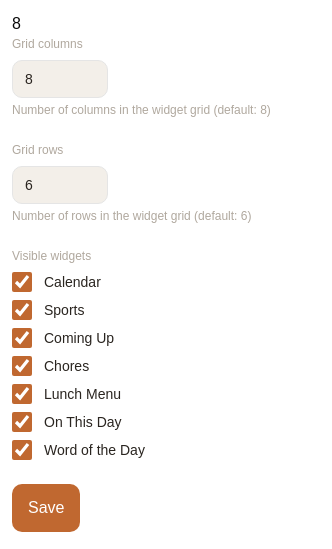
it: GridSettingsPanel › does not overwrite an in-progress edit when the config query refreshes
Replace the text in the number field showing "8" below "Grid columns" with "12" at (60, 79), box x1=12 y1=60 x2=108 y2=98
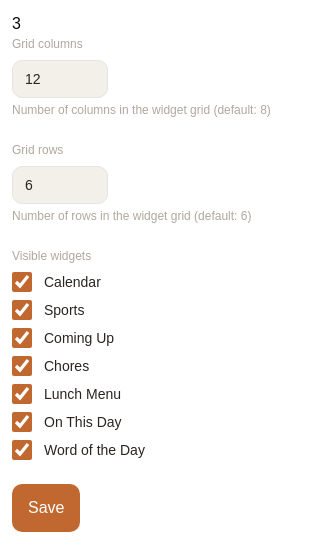
Expected: the text with test id "probe" reads "3", x1=12 y1=15 x2=21 y2=32
